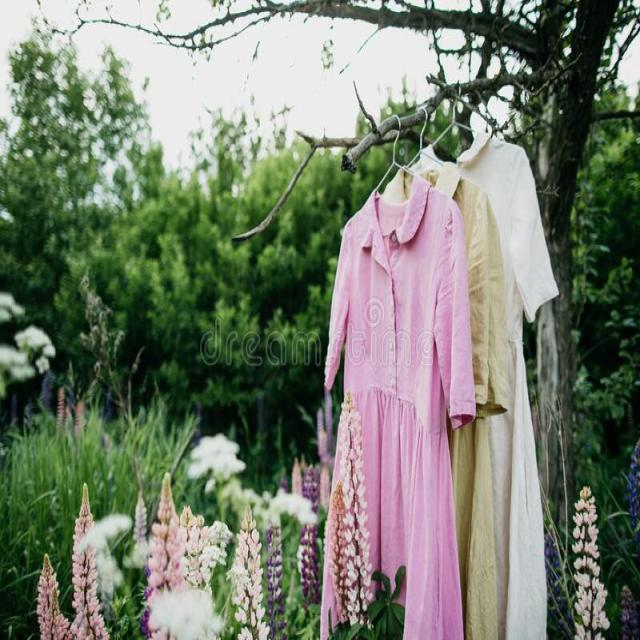clothes: (352, 195, 546, 620)
